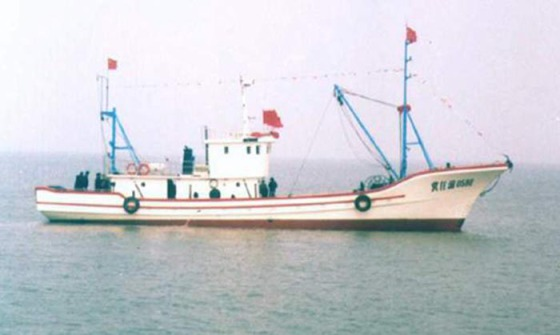otherboat: (32, 61, 518, 230)
